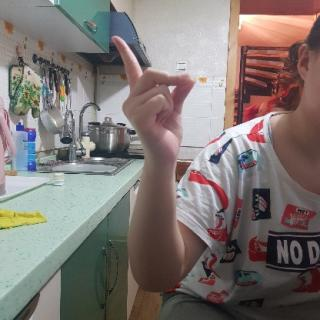TAA: (106, 31, 202, 169)
